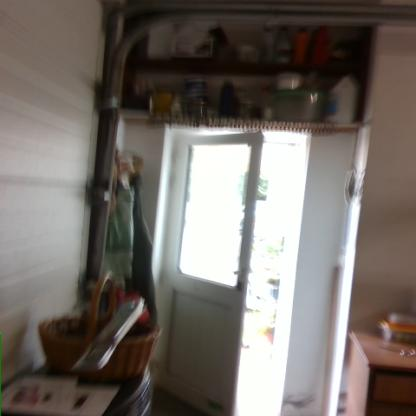semi: (150, 125, 317, 416)
